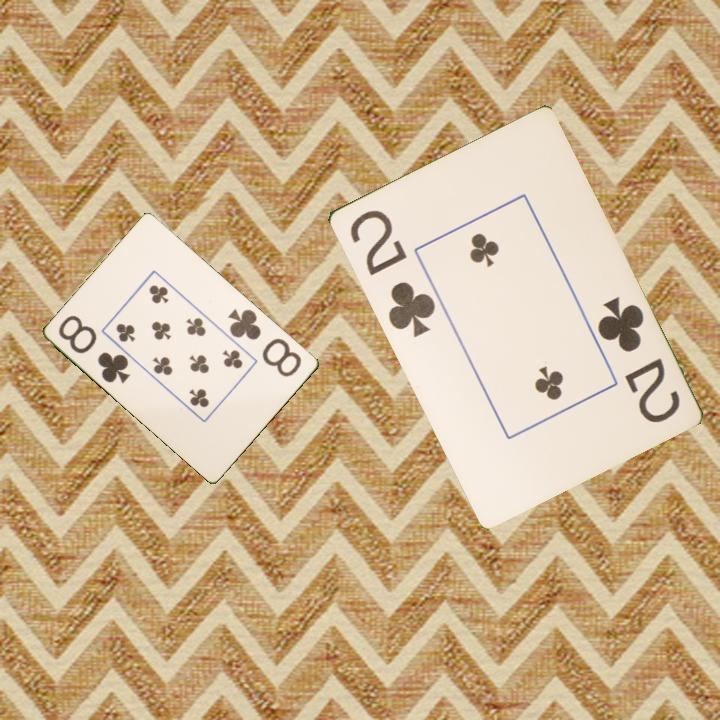2c: (345, 206, 438, 340), (593, 292, 683, 426)
8c: (225, 305, 305, 380), (55, 311, 133, 387)
